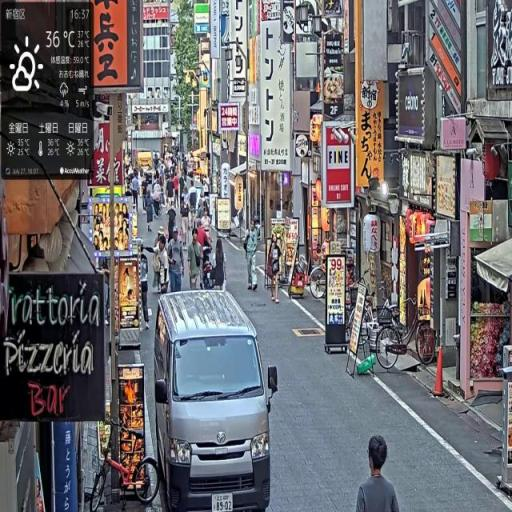person: (357, 436, 400, 512), (245, 219, 261, 292), (168, 227, 185, 293), (268, 234, 283, 304), (189, 229, 204, 291), (140, 252, 151, 331), (215, 240, 228, 291), (181, 201, 191, 249), (147, 187, 155, 233), (153, 183, 163, 218), (132, 175, 140, 212), (174, 175, 180, 208)
